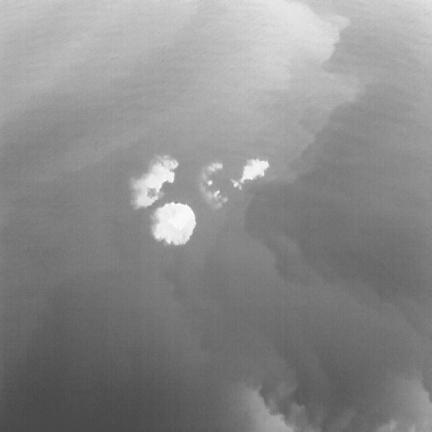flukeprints: (132, 157, 178, 207), (152, 202, 196, 245), (232, 159, 269, 188)
